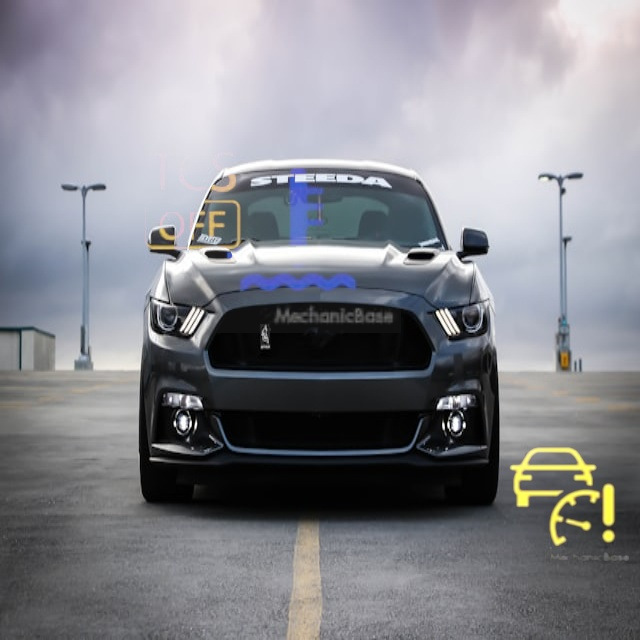symbol: (194, 126, 401, 333), (115, 123, 273, 281), (492, 427, 632, 567)
